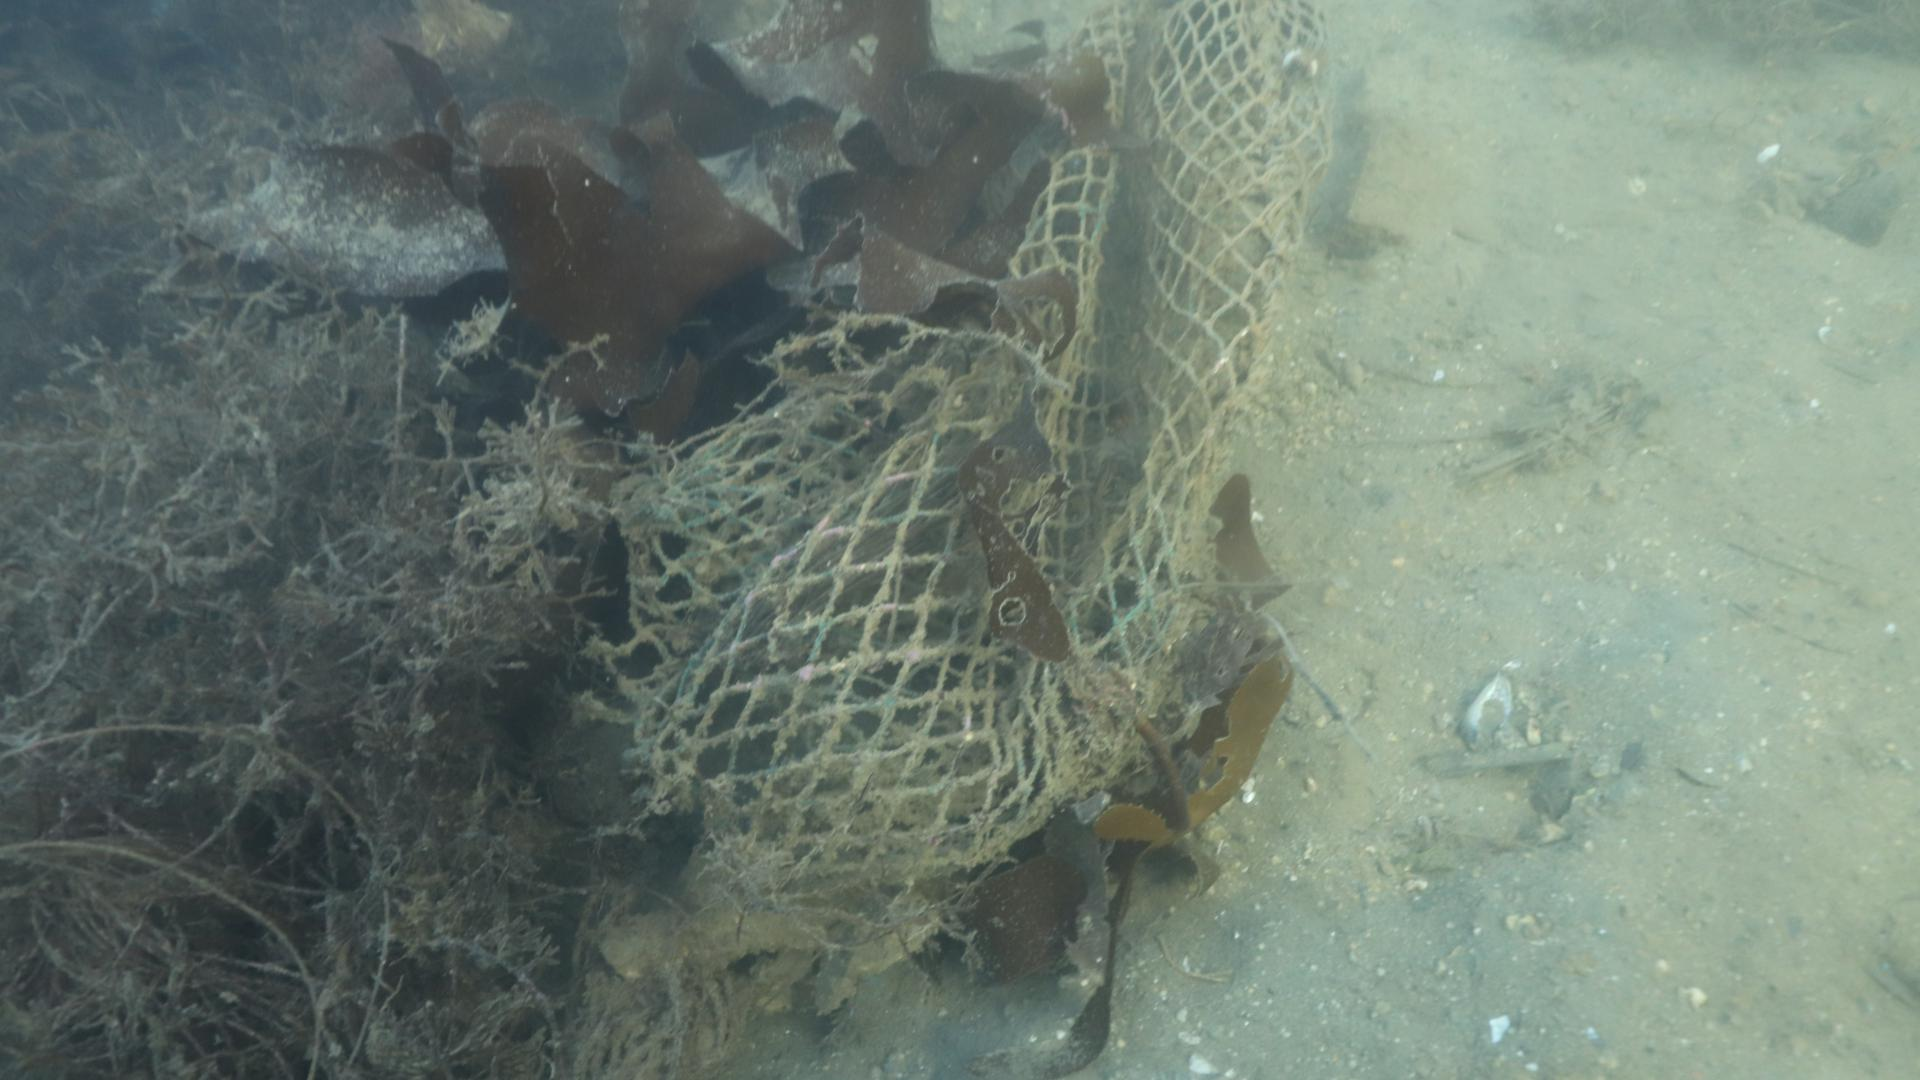fish net: (626, 0, 1328, 952)
